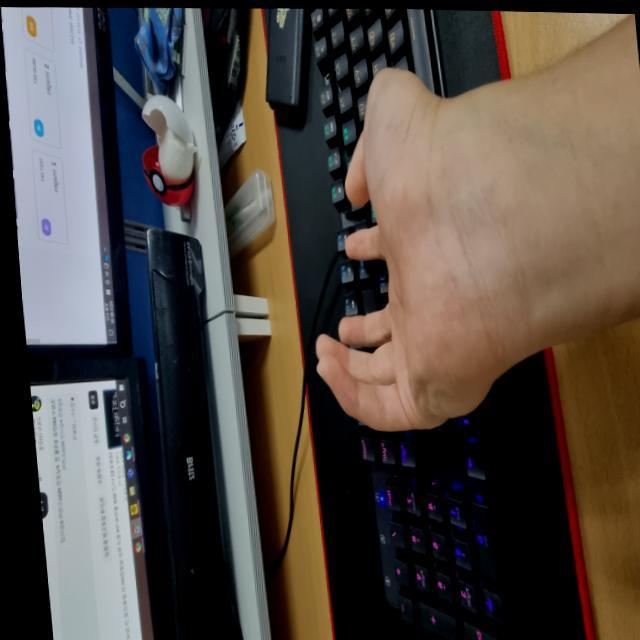keyboard-with-hands: (308, 6, 505, 640)
